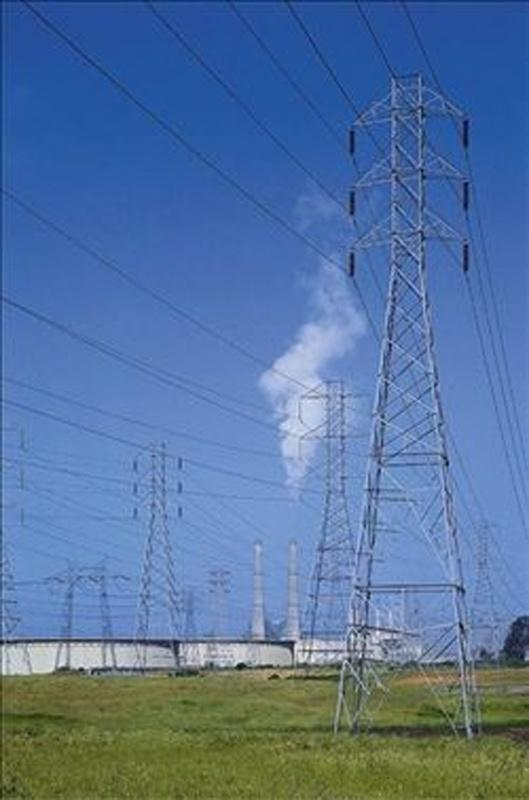power_tower: (328, 72, 503, 742)
